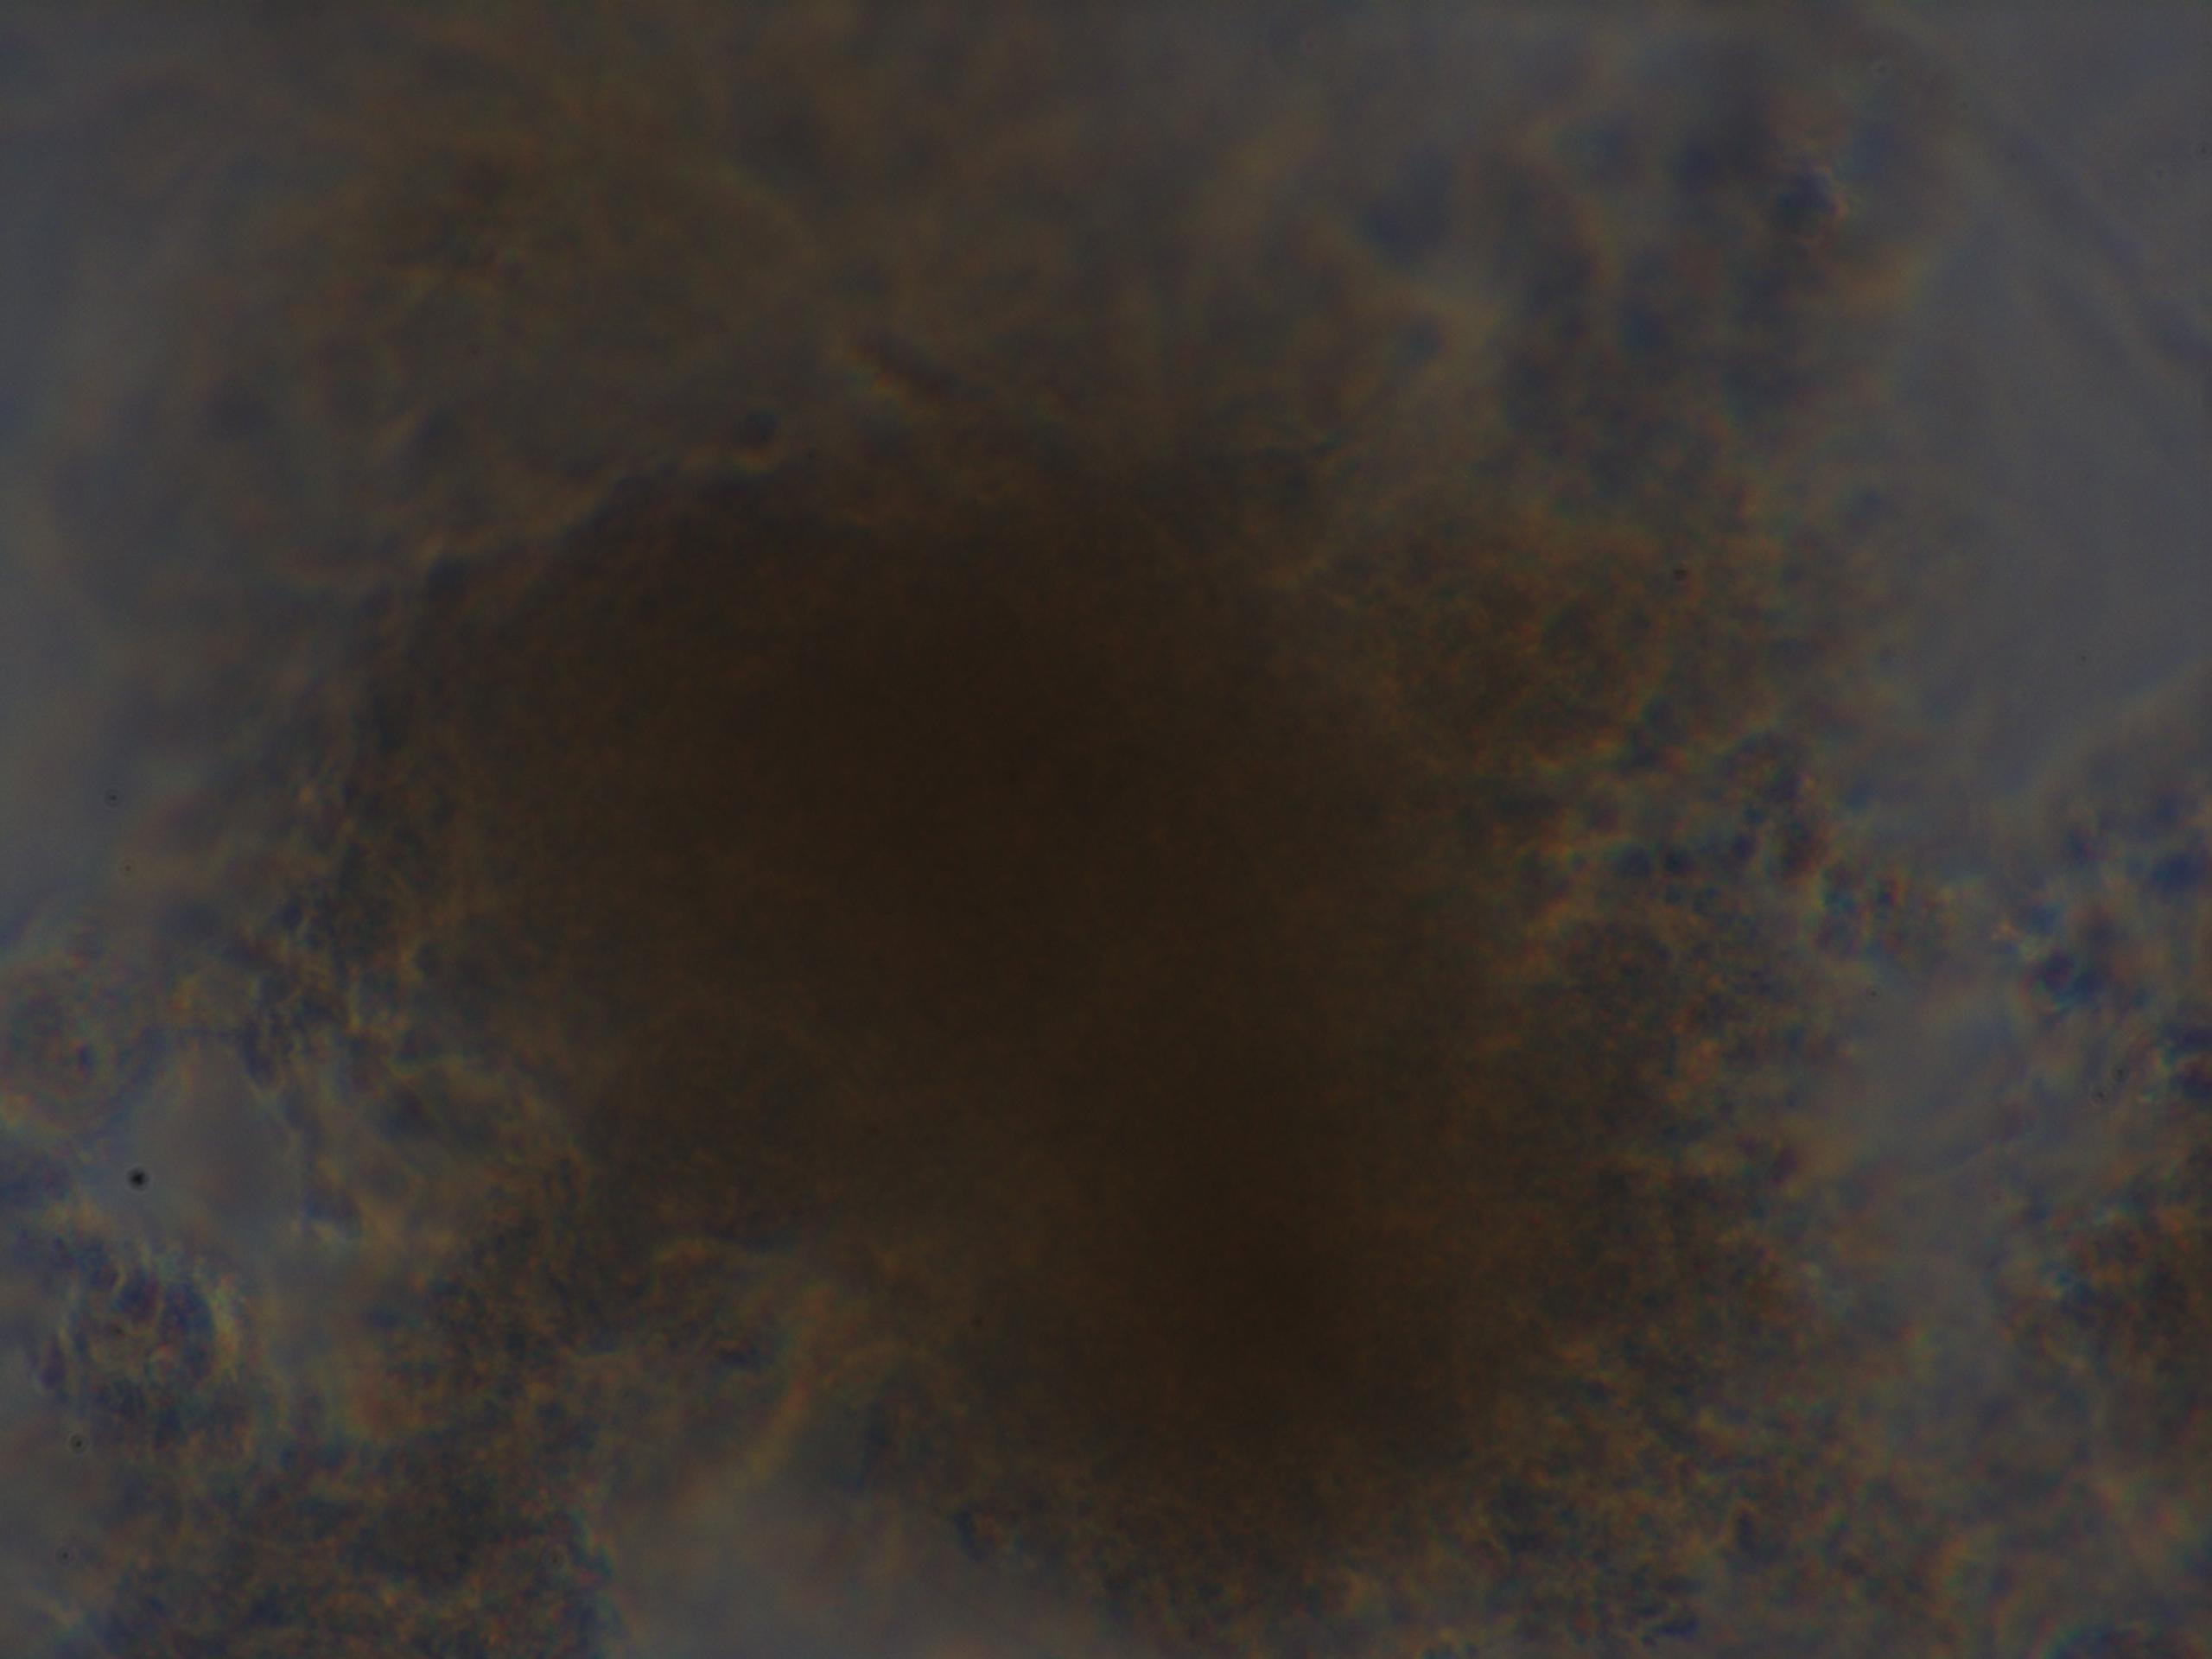spherical_floc: (307, 352, 1766, 1659)
